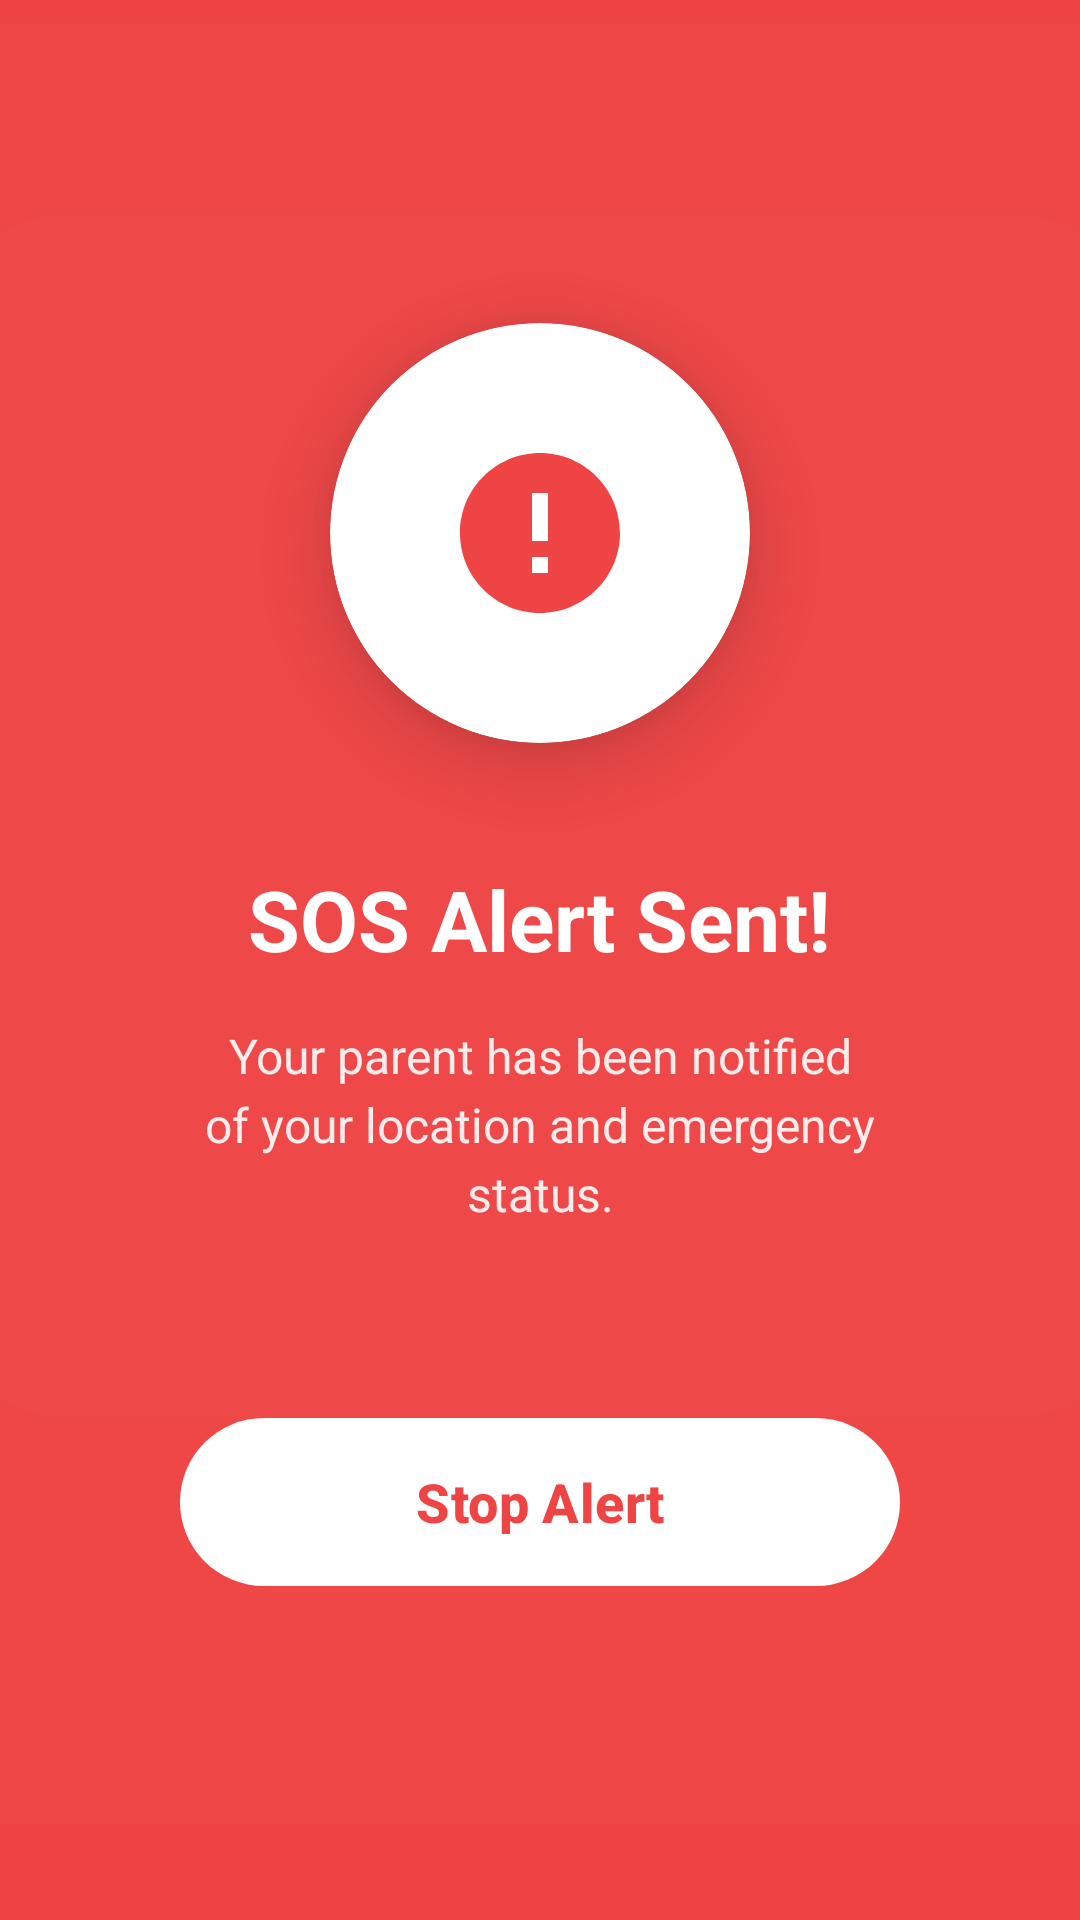

Point at icon controls on the screen. Image size 1080px x 1920px, points as point (x, y).
error: point (540, 533)
